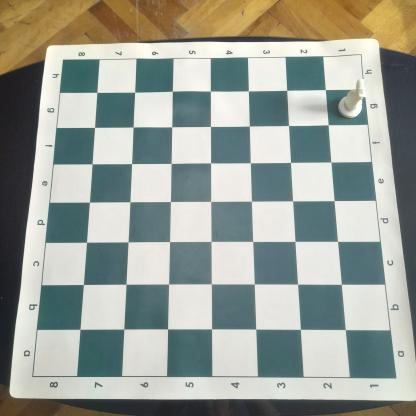white-knight: (336, 78, 367, 119)
